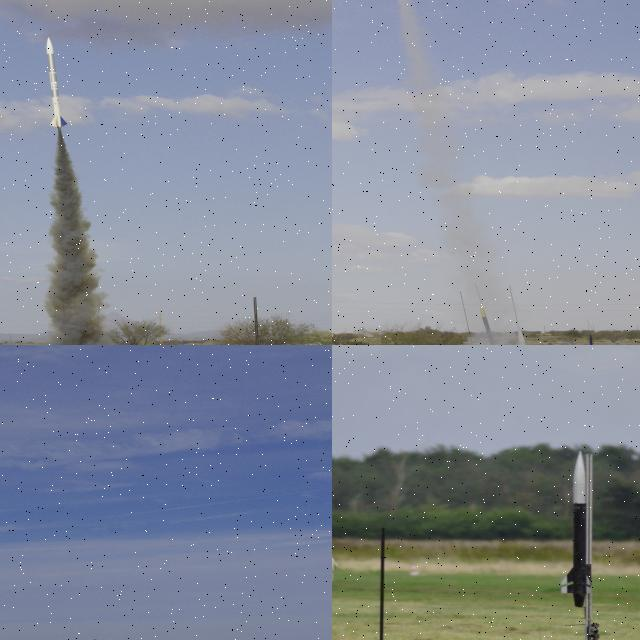Rocket: (560, 448, 592, 608), (46, 37, 68, 128)
